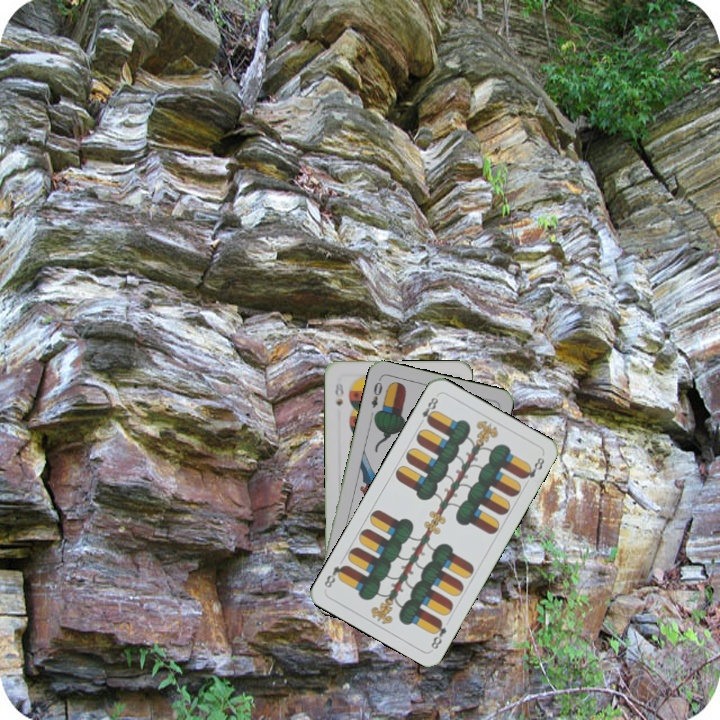E8: (415, 393, 441, 428), (427, 615, 449, 652)
EO: (367, 375, 385, 410)
S8: (331, 379, 346, 408)
